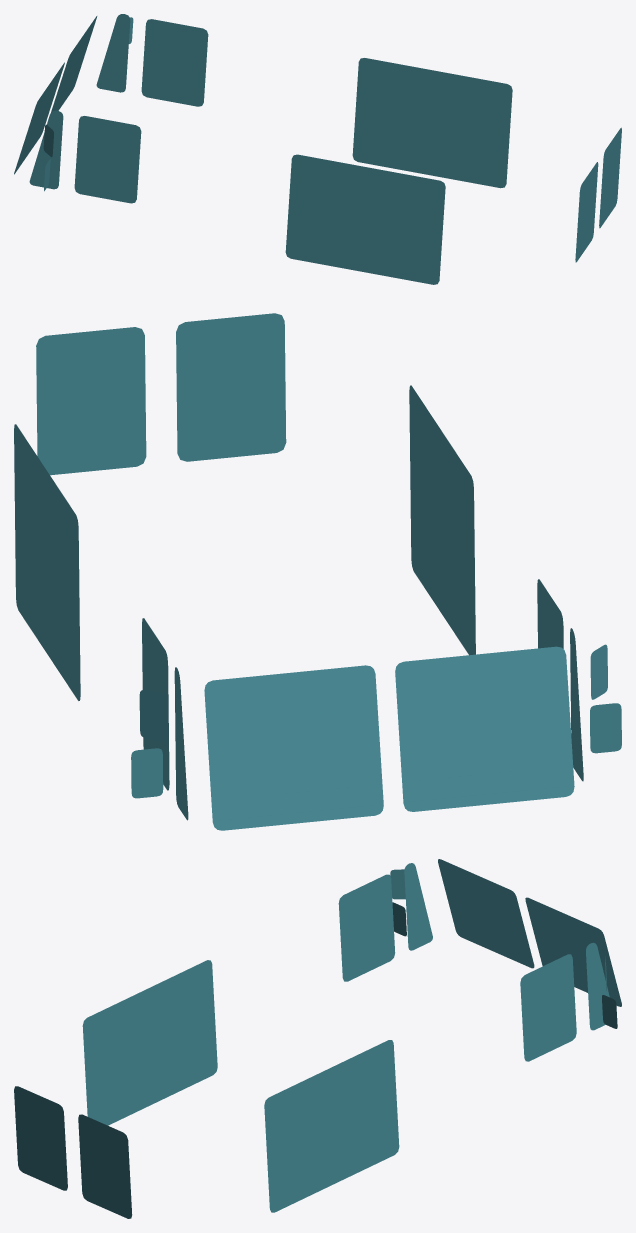
Rendered from car-windows.obj.
3 views of the same model, one above another, from view 1: azimuth 30°, elevation 25°; view 2: azimuth 150°, elevation 25°; view 3: azimuth 270°, elevation 25° (orthographic). The views are drawn at different scales.
Visible parts, largest first — view 1: Car_Ice.001; view 2: Car_Ice.001; view 3: Car_Ice.001.
Boxes of the visible parts, x1,y1,x2,y2 form: Car_Ice.001: (14, 14, 621, 284); Car_Ice.001: (14, 313, 621, 830); Car_Ice.001: (14, 859, 621, 1218).
Bounding box in the file's own units: 2.32 × 0.625 × 2.39.
1 material, 1 textured.
